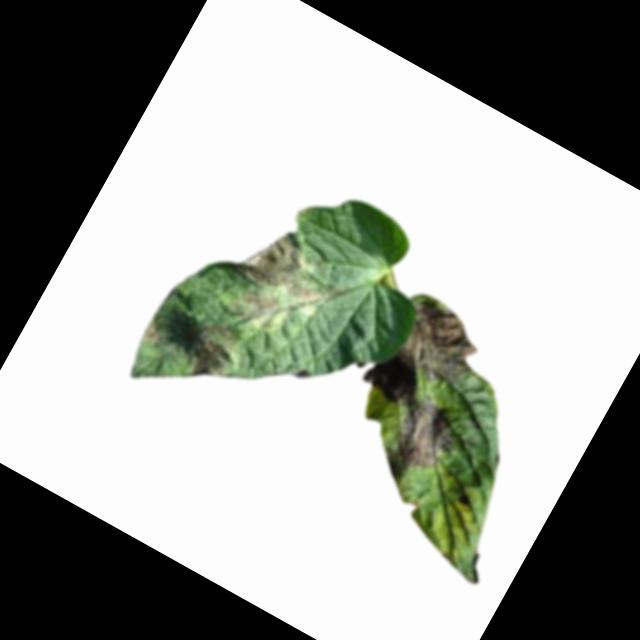Late_blight: (358, 285, 490, 426), (232, 217, 341, 315), (386, 391, 466, 477), (229, 279, 290, 337), (183, 333, 238, 390), (139, 318, 170, 349)
